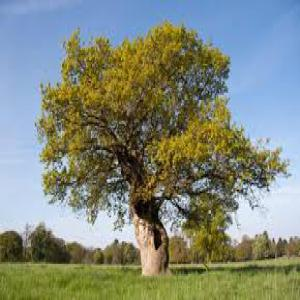Tree: (34, 18, 292, 272)
